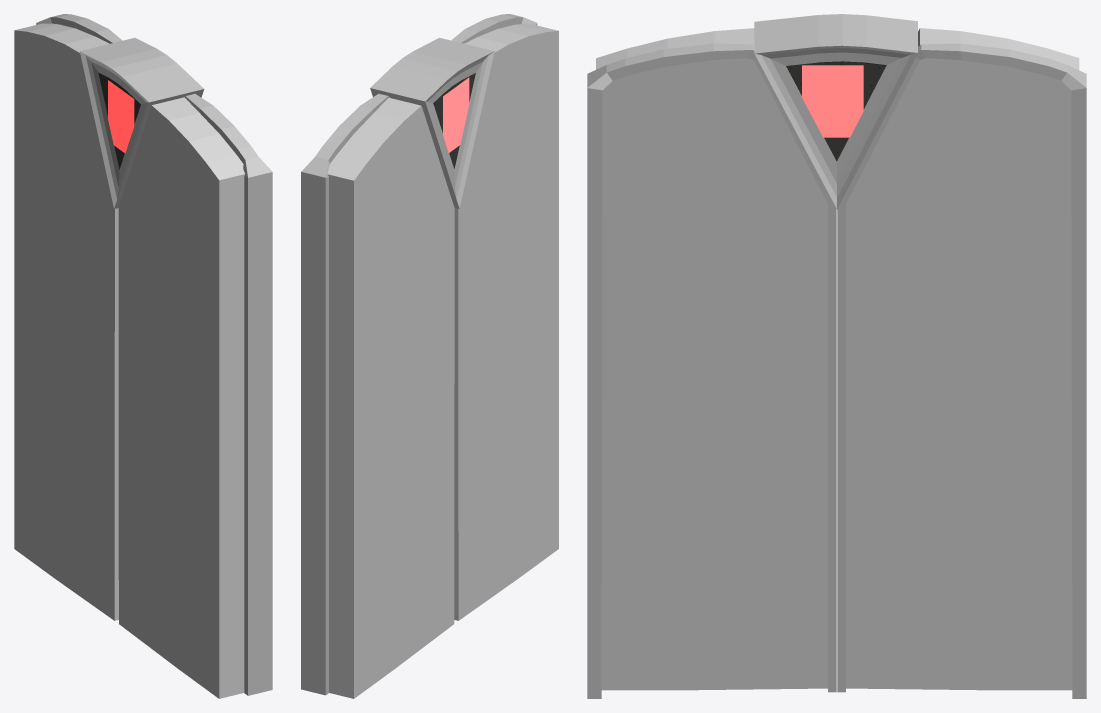
The model's file is Porte obsidienne.fbx.
3 views of the same model, side by side, from view 1: azimuth 30°, elevation 25°; view 2: azimuth 150°, elevation 25°; view 3: azimuth 270°, elevation 25° (orthographic). The views are drawn at different scales.
Parts seen in each view (by area): view 1: Porte - gauche, Porte - droite, Porte - dessus; view 2: Porte - droite, Porte - gauche, Porte - dessus; view 3: Porte - droite, Porte - gauche, Porte - dessus.
Part boxes in pixels (left/top/right/bottom): Porte - gauche: left=118, top=94, right=272, bottom=698; Porte - droite: left=14, top=14, right=122, bottom=620; Porte - dessus: left=80, top=38, right=204, bottom=208; Porte - droite: left=301, top=93, right=454, bottom=698; Porte - gauche: left=451, top=14, right=558, bottom=620; Porte - dessus: left=370, top=37, right=494, bottom=208; Porte - droite: left=837, top=28, right=1086, bottom=698; Porte - gauche: left=587, top=28, right=836, bottom=698; Porte - dessus: left=754, top=14, right=917, bottom=209.
Bounding box in the file's own units: 39.65 × 381 × 263.
